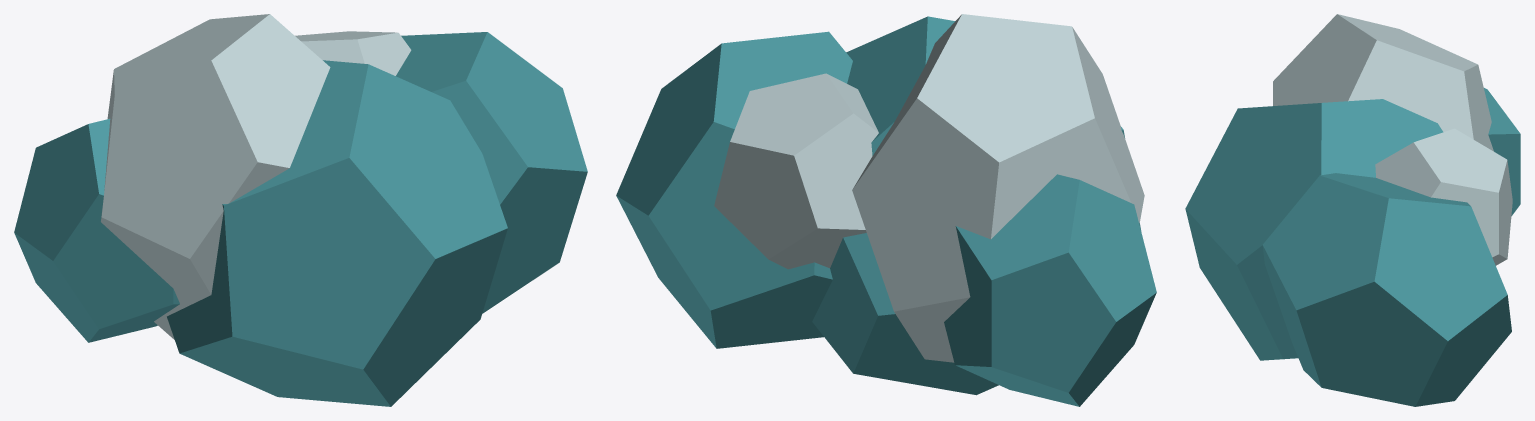
The model's file is snow_bank.glb.
3 renders of one model, left to right at view 1: azimuth 30°, elevation 25°; view 2: azimuth 150°, elevation 25°; view 3: azimuth 270°, elevation 25°, orthographic. The views are drawn at different scales.
Parts seen in each view (by area): view 1: rock_2, rock_1, rock_4, rock_0, rock_3; view 2: rock_1, rock_4, rock_0, rock_3, rock_2; view 3: rock_4, rock_2, rock_1, rock_3, rock_0.
Boxes of the visible parts, x1,y1,x2,y2 form: rock_2: (167, 60, 507, 406); rock_1: (101, 14, 330, 339); rock_4: (396, 32, 587, 313); rock_0: (14, 118, 179, 342); rock_3: (295, 31, 411, 75); rock_1: (852, 14, 1144, 362); rock_4: (616, 31, 852, 348); rock_0: (944, 174, 1156, 406); rock_3: (714, 73, 878, 269); rock_2: (812, 16, 1141, 395); rock_4: (1262, 173, 1511, 406); rock_2: (1185, 99, 1443, 360); rock_1: (1273, 14, 1493, 151); rock_3: (1375, 128, 1512, 265); rock_0: (1484, 88, 1520, 216).
Size of what is drawn, in the model's own units: 2.86 by 2.07 by 2.
